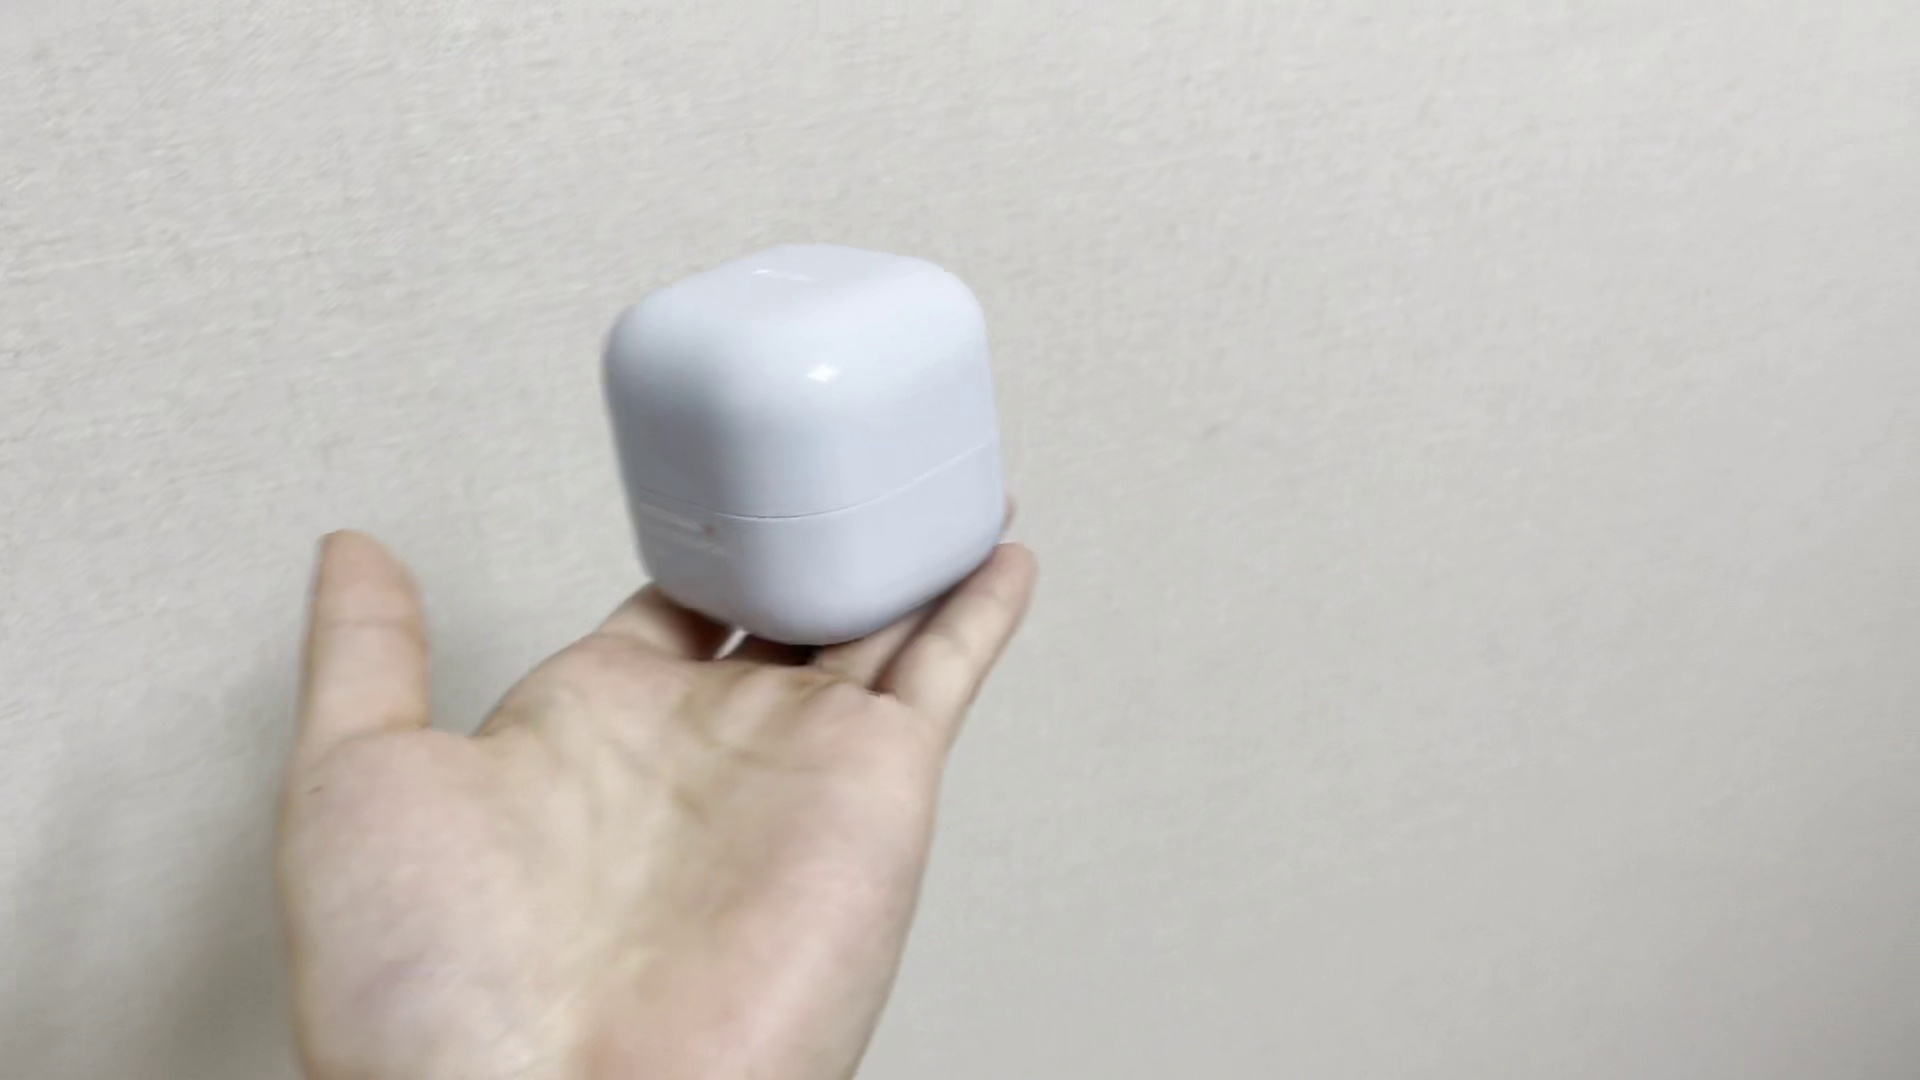cream: (604, 244, 1007, 636)
